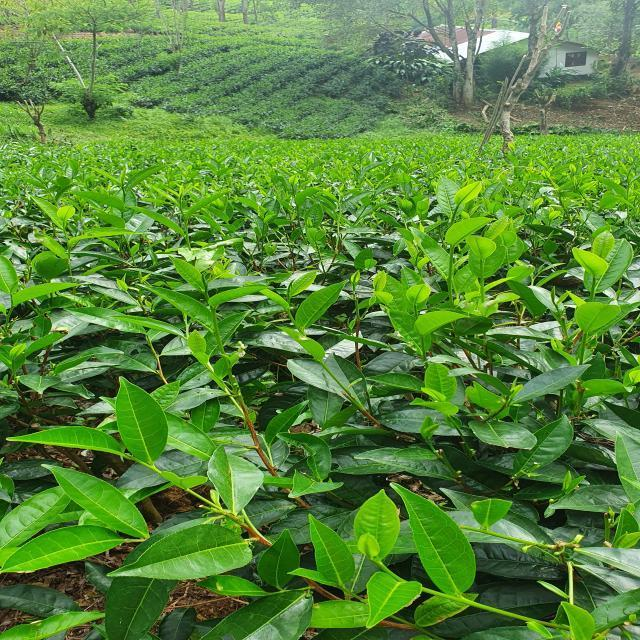Stem: (426, 588, 446, 597), (211, 310, 218, 326), (150, 465, 161, 474), (287, 310, 293, 320), (590, 287, 595, 298), (450, 248, 454, 261), (480, 262, 484, 275), (63, 229, 68, 238), (184, 222, 188, 233), (420, 337, 424, 347)
